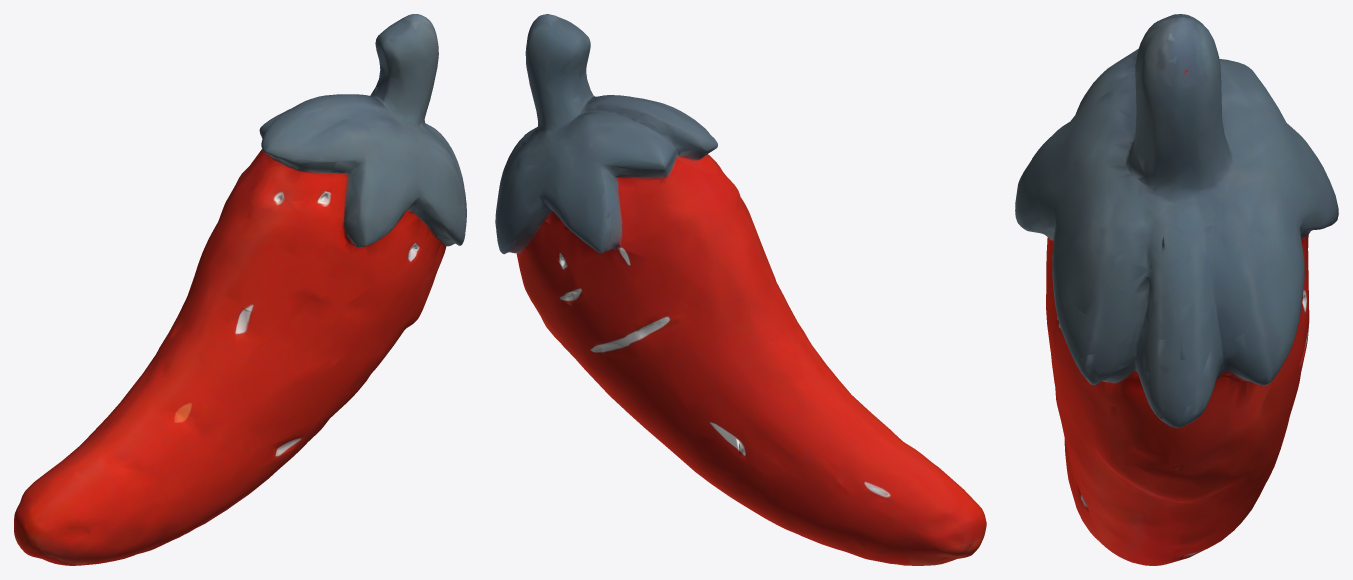
Rendered from Meshy_AI_Red_Chili_Pepper_0429142225_texture.fbx.
The picture shows the model from 3 angles, left to right: view 1: azimuth 30°, elevation 25°; view 2: azimuth 150°, elevation 25°; view 3: azimuth 270°, elevation 25°; orthographic projection. The views are drawn at different scales.
Visible parts, largest first — view 1: Mesh_0; view 2: Mesh_0; view 3: Mesh_0.
Boxes of the visible parts, <box> form: Mesh_0: <box>14,14,466,565</box>; Mesh_0: <box>495,14,986,565</box>; Mesh_0: <box>1015,14,1338,565</box>.
Bounding box in the file's own units: 200 × 191 × 75.56.
Materials: 1 (1 with a texture image).
